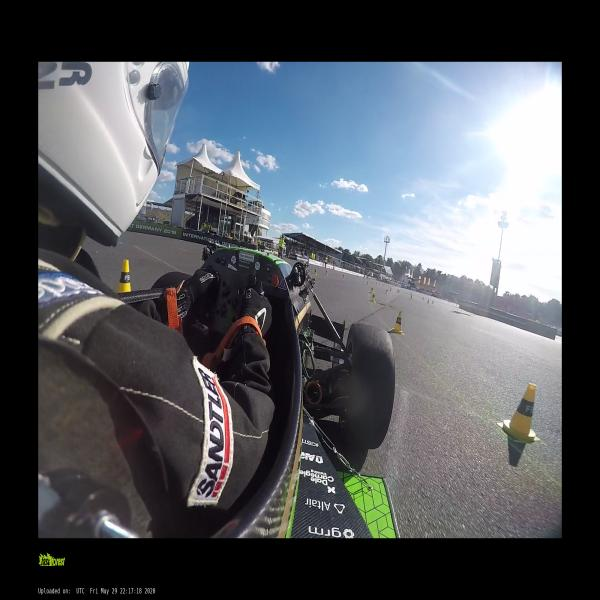yellow_cone: (497, 381, 541, 442), (117, 260, 131, 292), (390, 310, 404, 335), (371, 292, 376, 302), (314, 268, 317, 276), (370, 287, 373, 293), (325, 269, 328, 275), (342, 274, 345, 279), (385, 289, 388, 294), (366, 281, 369, 285), (427, 299, 429, 304), (410, 293, 412, 298), (398, 289, 400, 294), (422, 296, 424, 300), (432, 300, 434, 304), (390, 287, 392, 291)
